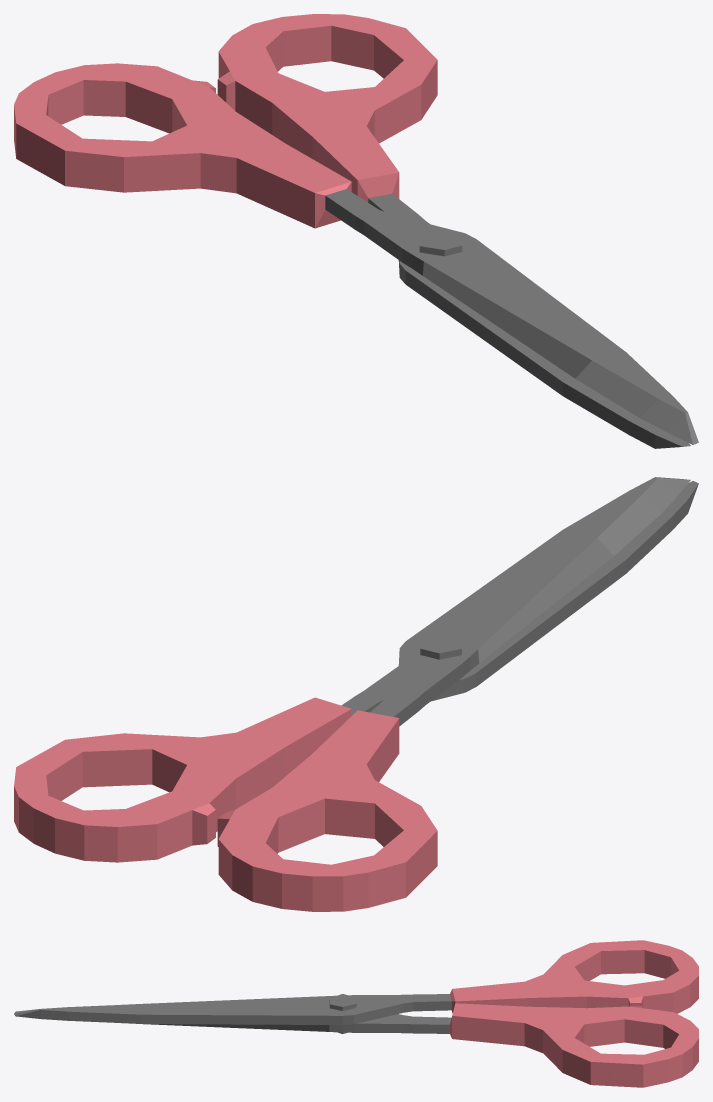
File: Scissor.fbx
3 views of the same model, one above another, from view 1: azimuth 30°, elevation 25°; view 2: azimuth 150°, elevation 25°; view 3: azimuth 270°, elevation 25° (orthographic). The views are drawn at different scales.
Visible parts, largest first — view 1: Scissor red A; view 2: Scissor red A; view 3: Scissor red A.
Boxes of the visible parts, x1,y1,x2,y2 form: Scissor red A: [14, 14, 698, 448]; Scissor red A: [14, 477, 698, 911]; Scissor red A: [14, 940, 698, 1087].
Size of the model in its own units: 0.2634 by 0.0266 by 0.6126.
